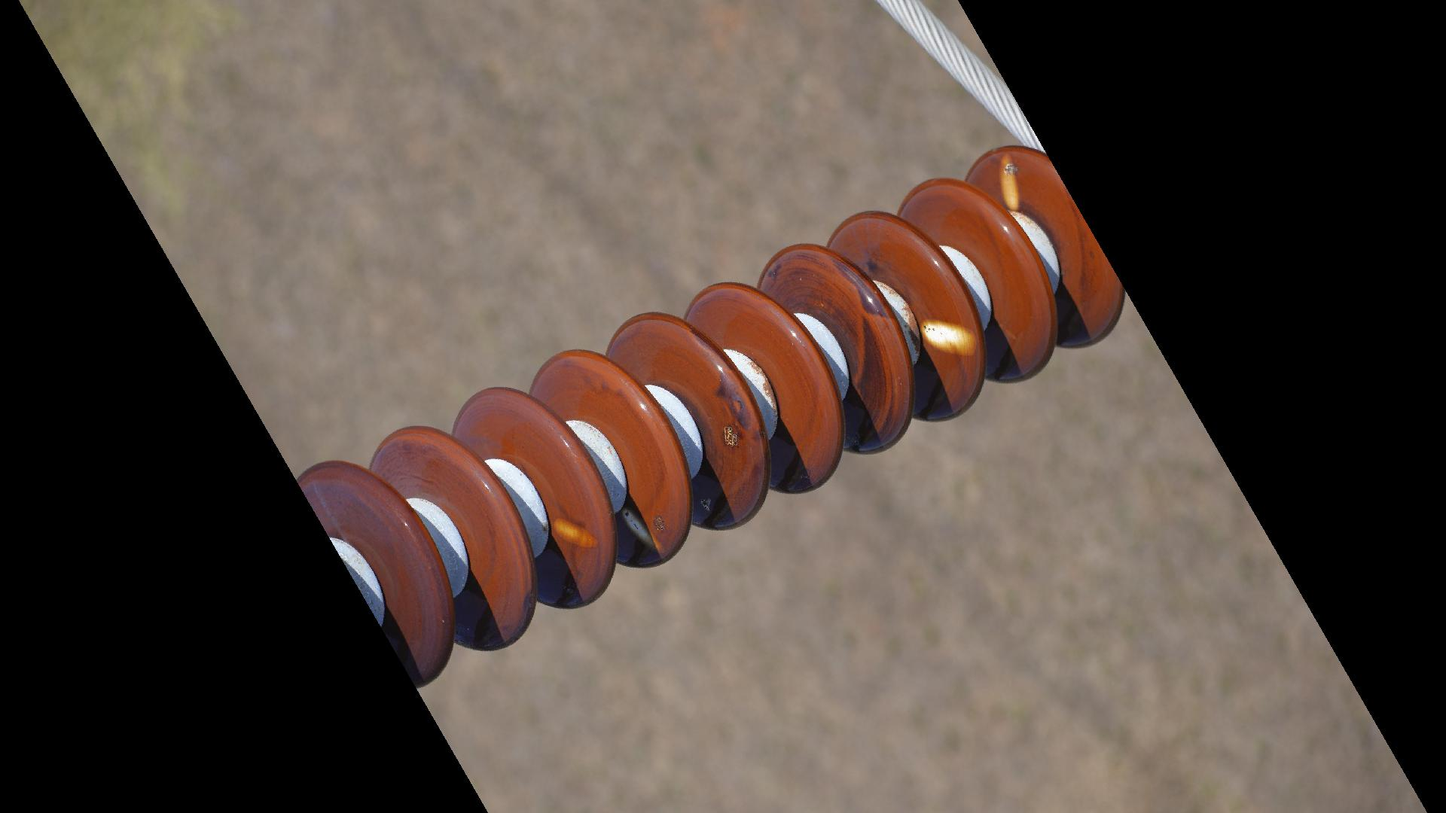insulator: (289, 141, 1133, 693)
insulator_flashover: (916, 317, 981, 359), (618, 507, 665, 556), (548, 514, 602, 553), (996, 149, 1023, 214)
